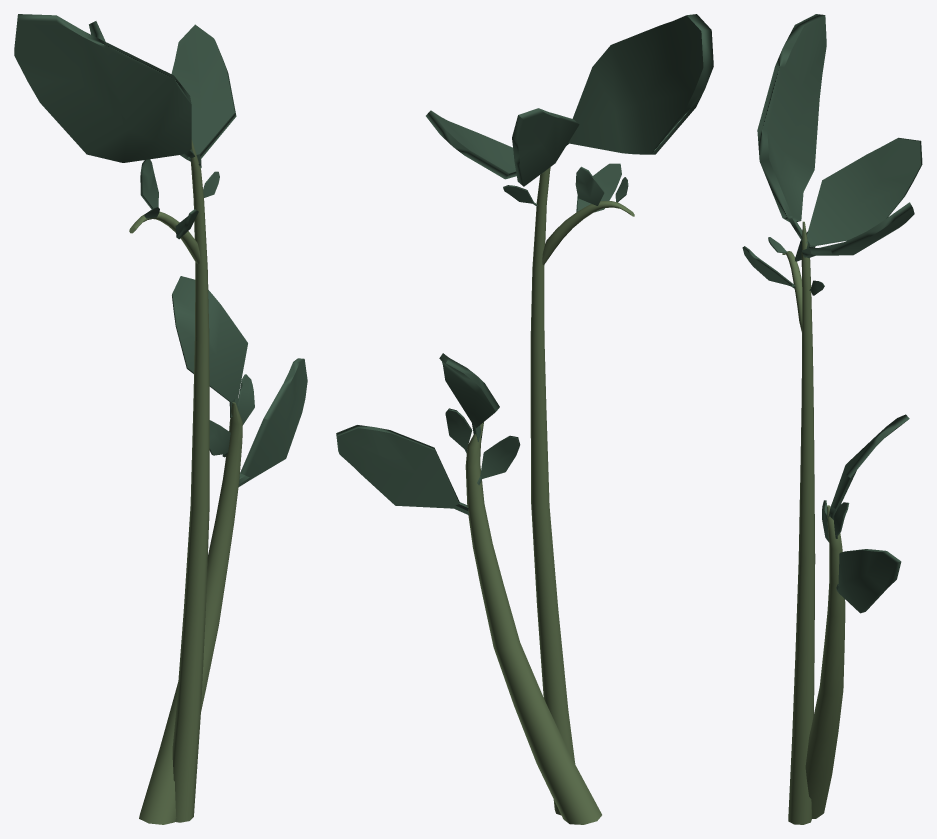
Rendered from PL_potatoStage2_01.fbx.
3 views of the same model, side by side, from view 1: azimuth 30°, elevation 25°; view 2: azimuth 150°, elevation 25°; view 3: azimuth 270°, elevation 25° (orthographic). The views are drawn at different scales.
Visible parts, largest first — view 1: PL_potatoStage2_01; view 2: PL_potatoStage2_01; view 3: PL_potatoStage2_01.
Boxes of the visible parts, bbox=[...] form: PL_potatoStage2_01: bbox=[14, 14, 307, 824]; PL_potatoStage2_01: bbox=[336, 14, 713, 824]; PL_potatoStage2_01: bbox=[742, 14, 922, 824].
Size of the model in its own units: 37.18 by 88.03 by 19.36.
1 material, 1 textured.
